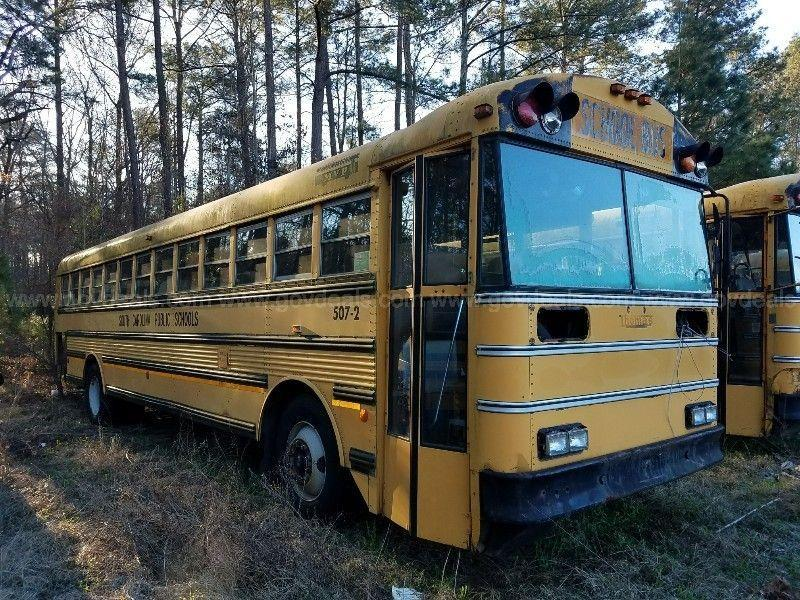Bus: (49, 73, 727, 555)
